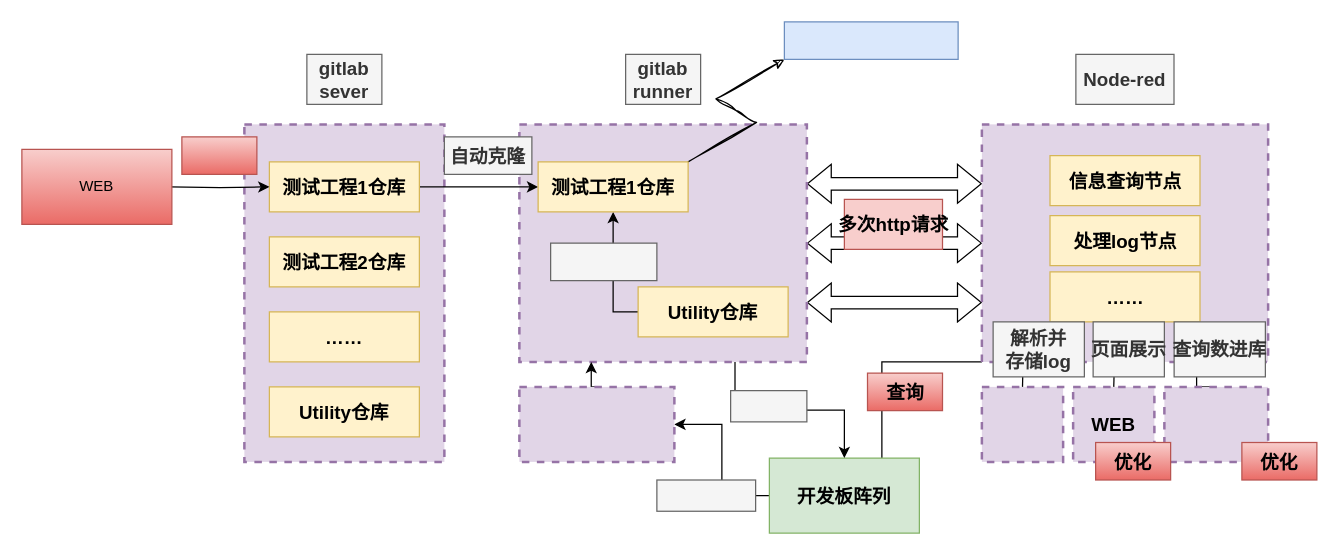
This 1339x555 diagram has some shape labels left out. The centre of each missing label's shape, as x and y in pixels:
".gitlab_cicd.yml" goes at [870,40].
"Database" goes at [1215,423].
"Greentea" goes at [596,423].
"RGW" goes at [1022,423].
"submodule" goes at [603,261].
"收集log" goes at [706,495].
"烧录" goes at [768,405].
"触发" goes at [219,155].
